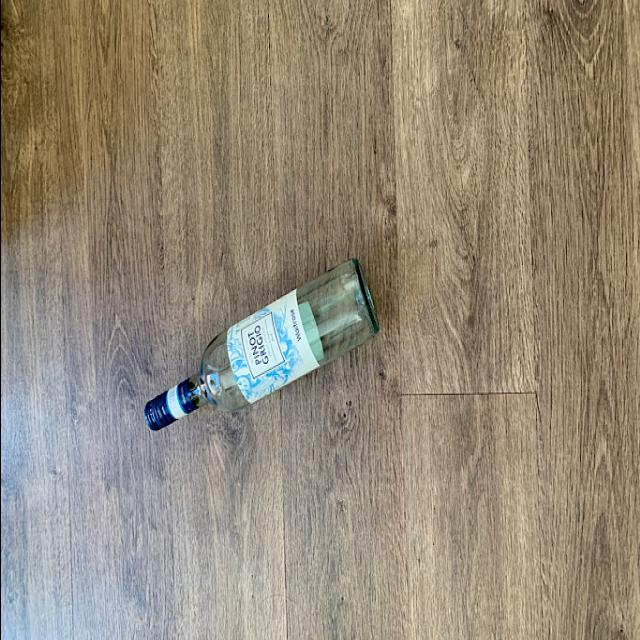Glass Bottle: (138, 257, 380, 448)
